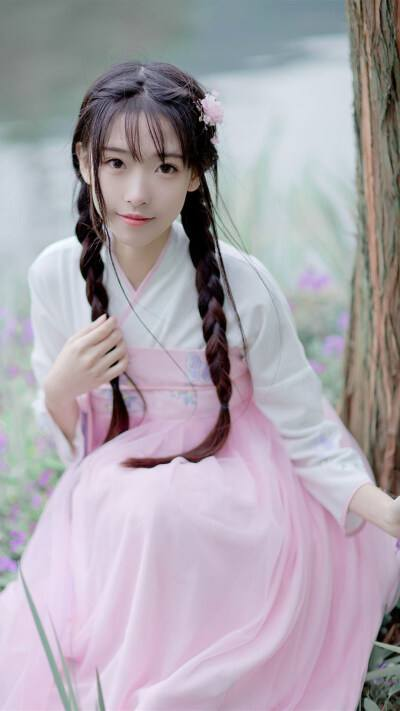person: (24, 73, 312, 511)
